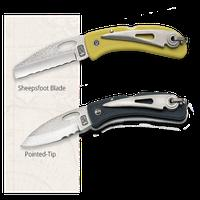knife: (14, 87, 199, 155), (8, 21, 192, 88)
